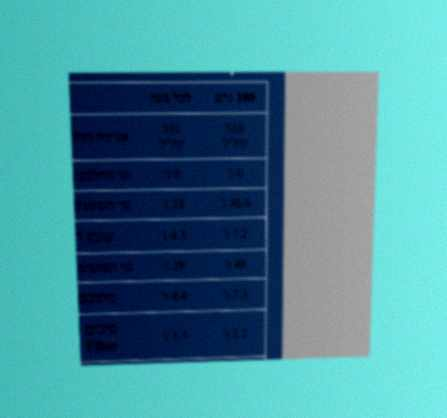carbs: (223, 256, 248, 273)
energy: (219, 117, 251, 153)
fat: (218, 194, 252, 212)
protein: (225, 164, 245, 182)
